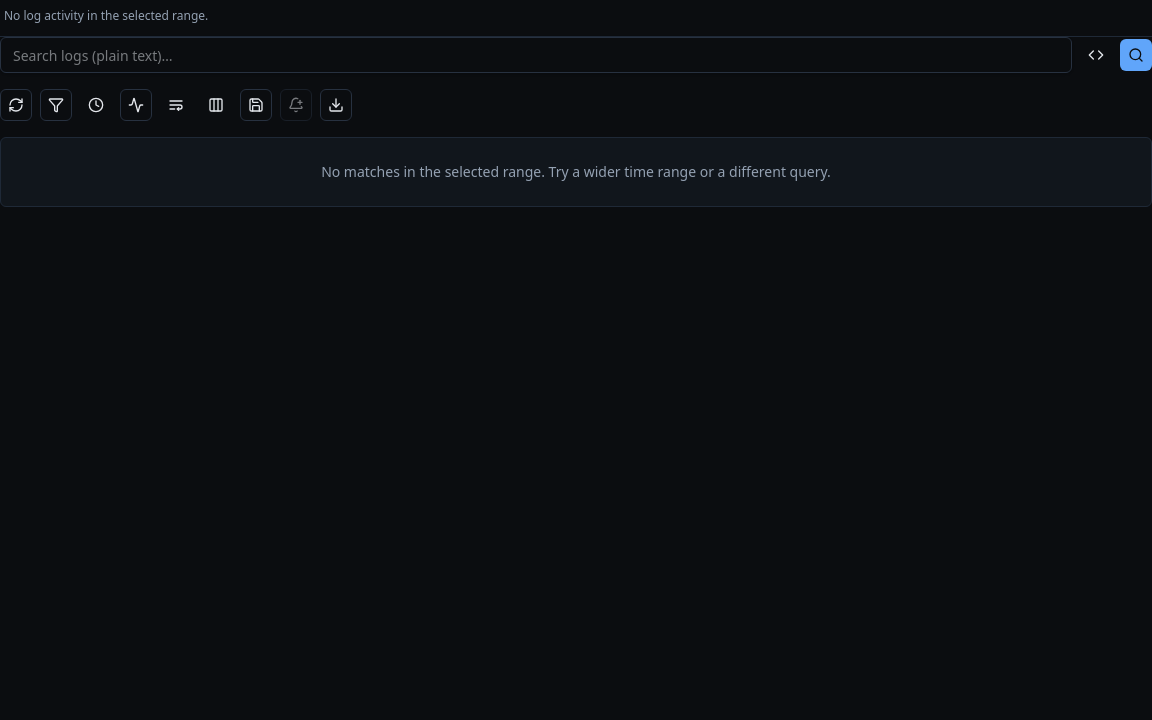
Test: LogsExplorerPage › mobile drawer toggle (mobile path)
Check: the field with test id "logs-search-input" is shown, box [0, 37, 1072, 73]
Click to open — Sheet mounts in a portal, so use findBy (async)
Click the button with test id "logs-filter-toggle": (56, 105) [40, 89, 72, 121]
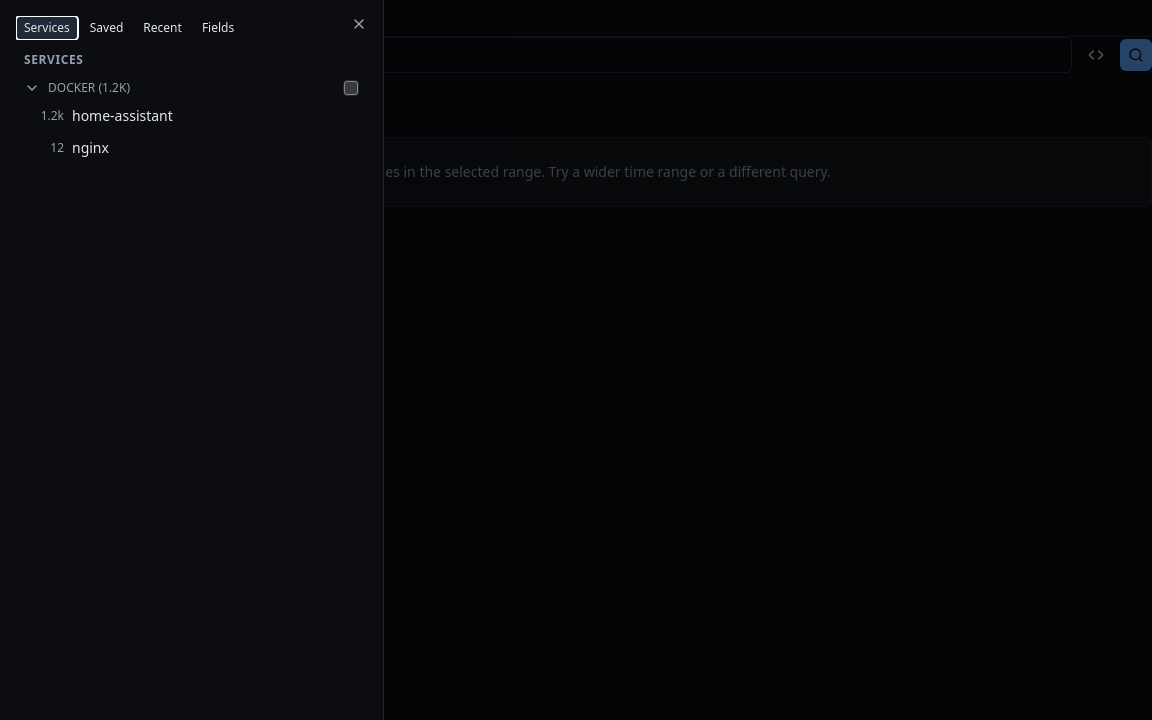
Check: the element with test id "stream-picker" is shown, box [16, 48, 367, 164]
